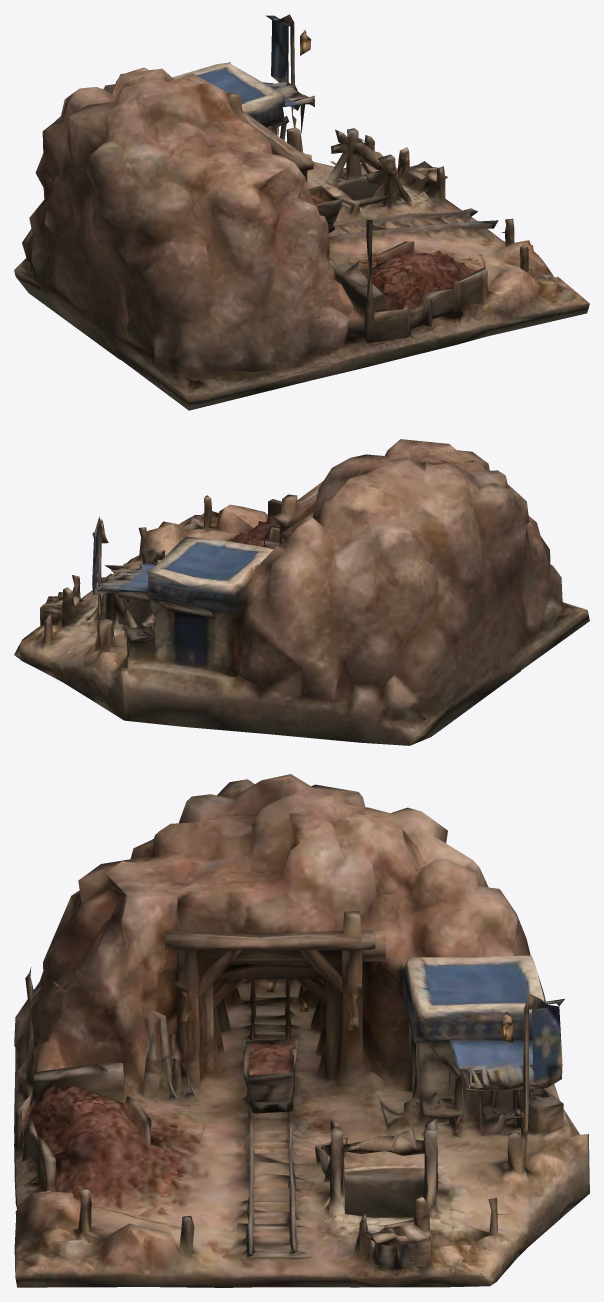
Rendered from iron_mine_0.glb.
3 renders of one model, top to bottom at view 1: azimuth 30°, elevation 25°; view 2: azimuth 150°, elevation 25°; view 3: azimuth 270°, elevation 25°, orthographic. The views are drawn at different scales.
Parts seen in each view (by area): view 1: tripo_node_79e6cecb-a932-4cc0-a85e-c6c05775d7bd; view 2: tripo_node_79e6cecb-a932-4cc0-a85e-c6c05775d7bd; view 3: tripo_node_79e6cecb-a932-4cc0-a85e-c6c05775d7bd.
Part boxes in pixels (<box>): tripo_node_79e6cecb-a932-4cc0-a85e-c6c05775d7bd: <box>14,14,589,410</box>; tripo_node_79e6cecb-a932-4cc0-a85e-c6c05775d7bd: <box>14,439,589,745</box>; tripo_node_79e6cecb-a932-4cc0-a85e-c6c05775d7bd: <box>14,774,589,1287</box>.
Bounding box in the file's own units: 0.9789 × 0.5176 × 0.9099.
Materials: 1 (1 with a texture image).
